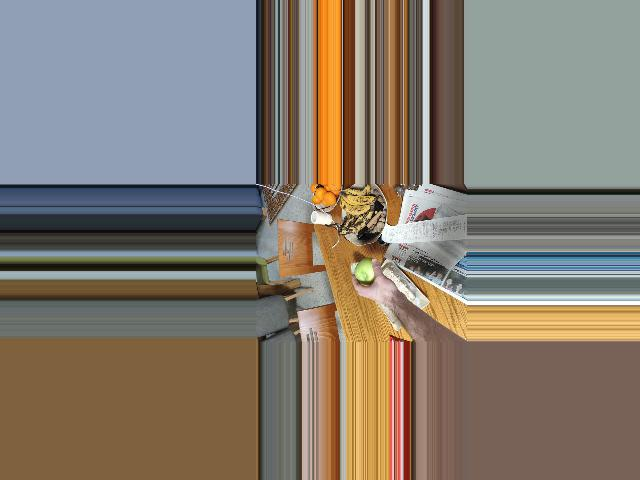apple: (351, 258, 380, 289)
